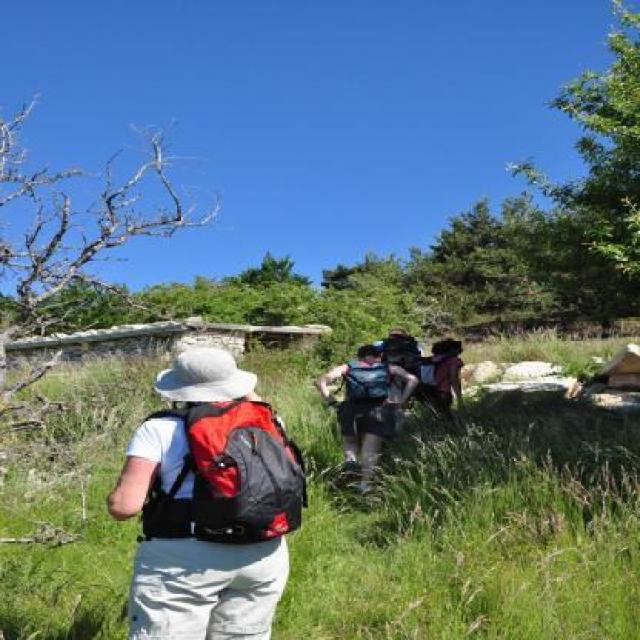backpack: (174, 398, 311, 544), (340, 358, 392, 402), (404, 357, 438, 394), (380, 337, 420, 363)
